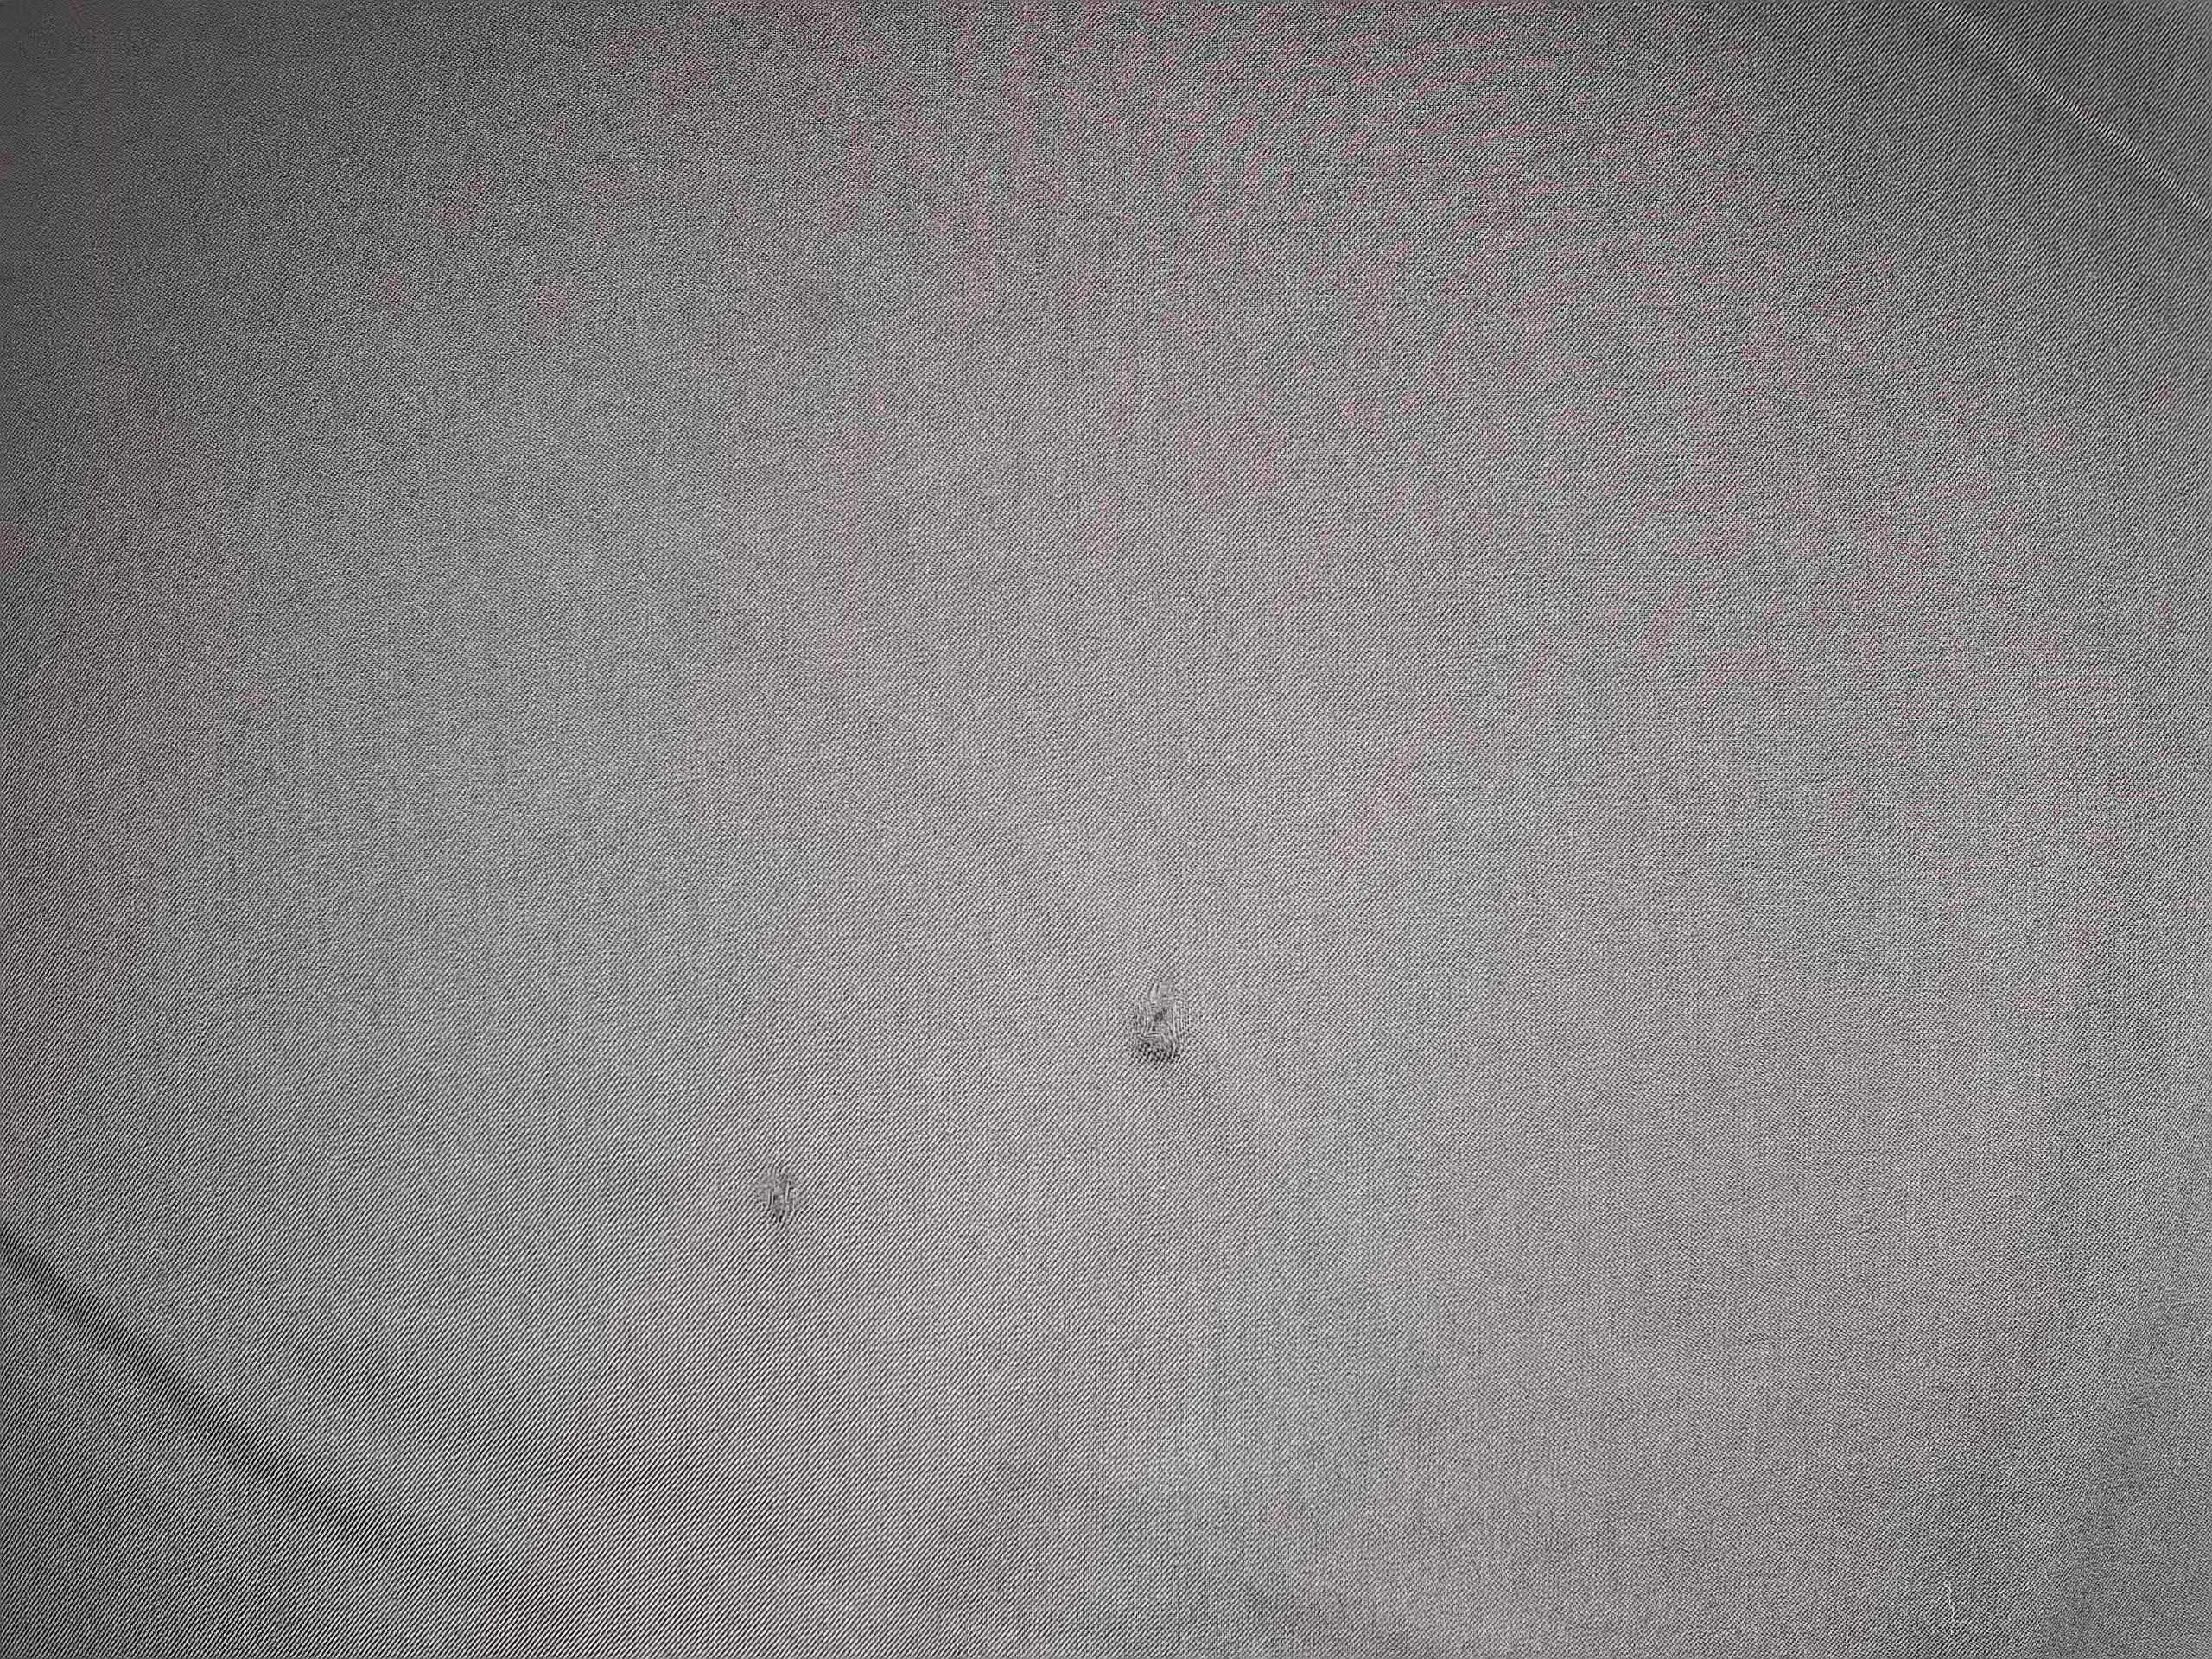rubbing-hole: (1116, 976, 1205, 1079), (742, 1150, 817, 1244)
